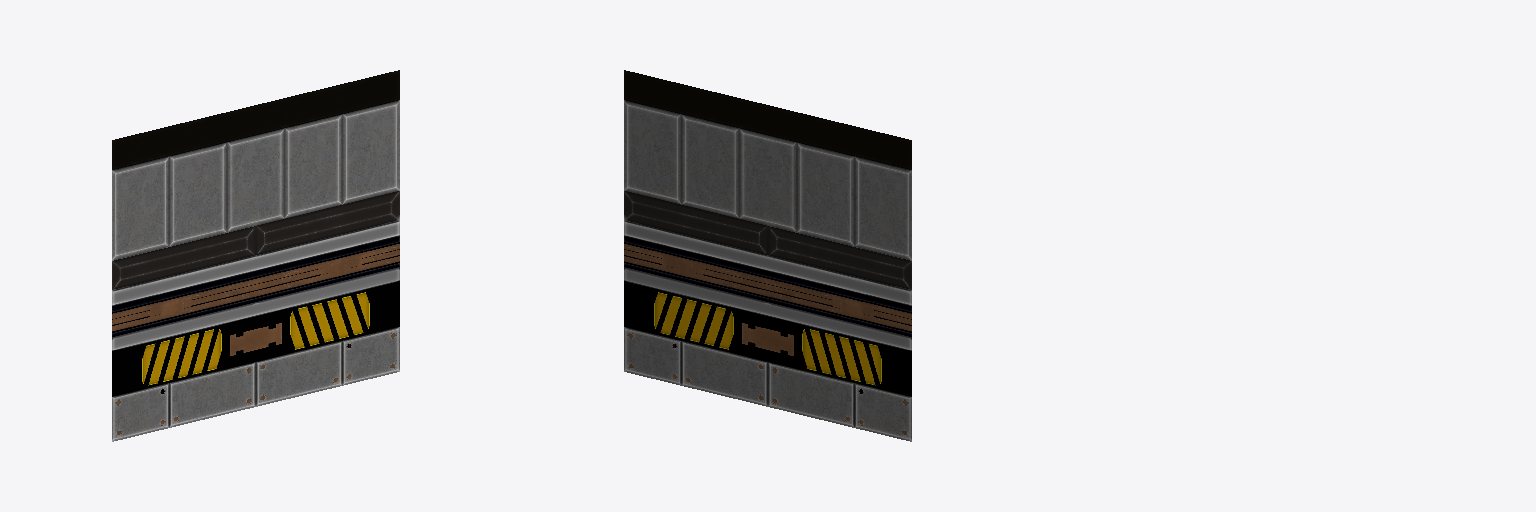
3 views of the same model, side by side, from view 1: azimuth 30°, elevation 25°; view 2: azimuth 150°, elevation 25°; view 3: azimuth 270°, elevation 25° (orthographic).
Visible parts, largest first — view 1: LP_wall_map1_0; view 2: LP_wall_map1_0; view 3: none.
Boxes of the visible parts, box(x1,y1,x2,y2) form: LP_wall_map1_0: box(112, 70, 399, 441); LP_wall_map1_0: box(624, 70, 911, 441).
Bounding box in the file's own units: 1 × 1 × 0.
1 materials, 1 textured.